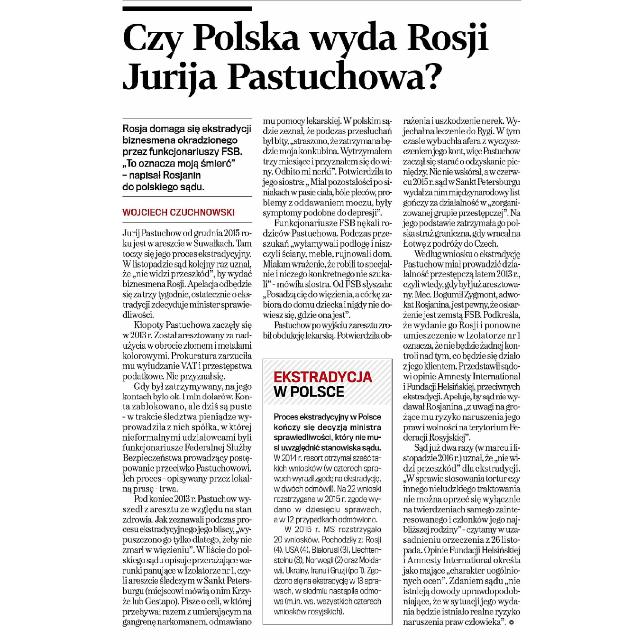author: (120, 204, 240, 220)
body: (401, 114, 521, 628), (118, 226, 256, 632), (259, 355, 396, 627), (258, 116, 396, 344)
lead: (119, 119, 253, 193)
title: (121, 15, 495, 95)
